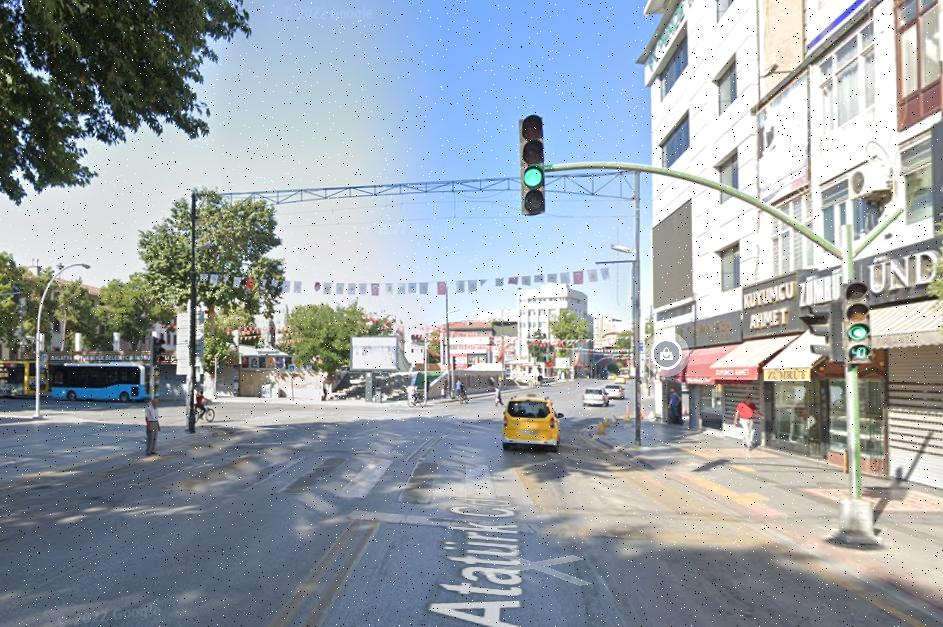greenlight: (524, 113, 547, 187), (842, 282, 870, 341)
